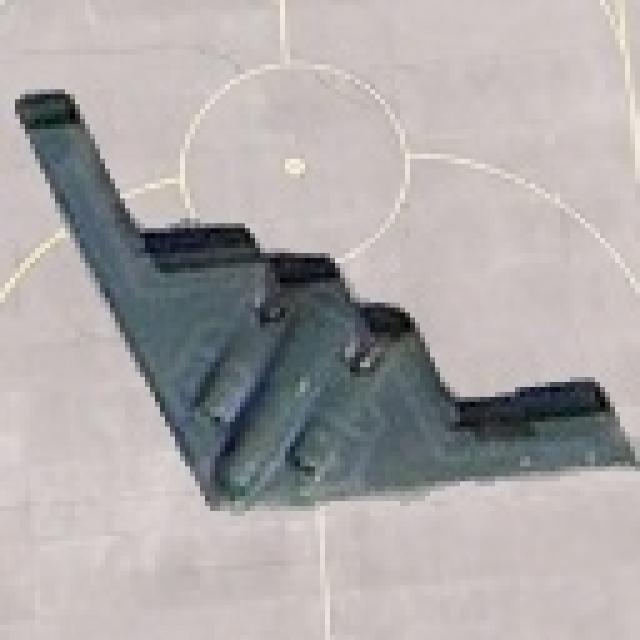B-2_TopDown: (5, 79, 635, 516)
